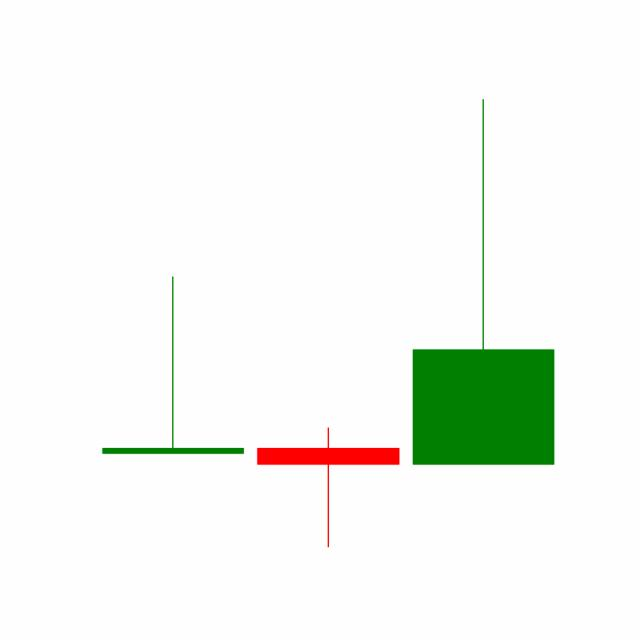Dragonfly Doji: (249, 425, 406, 548)
